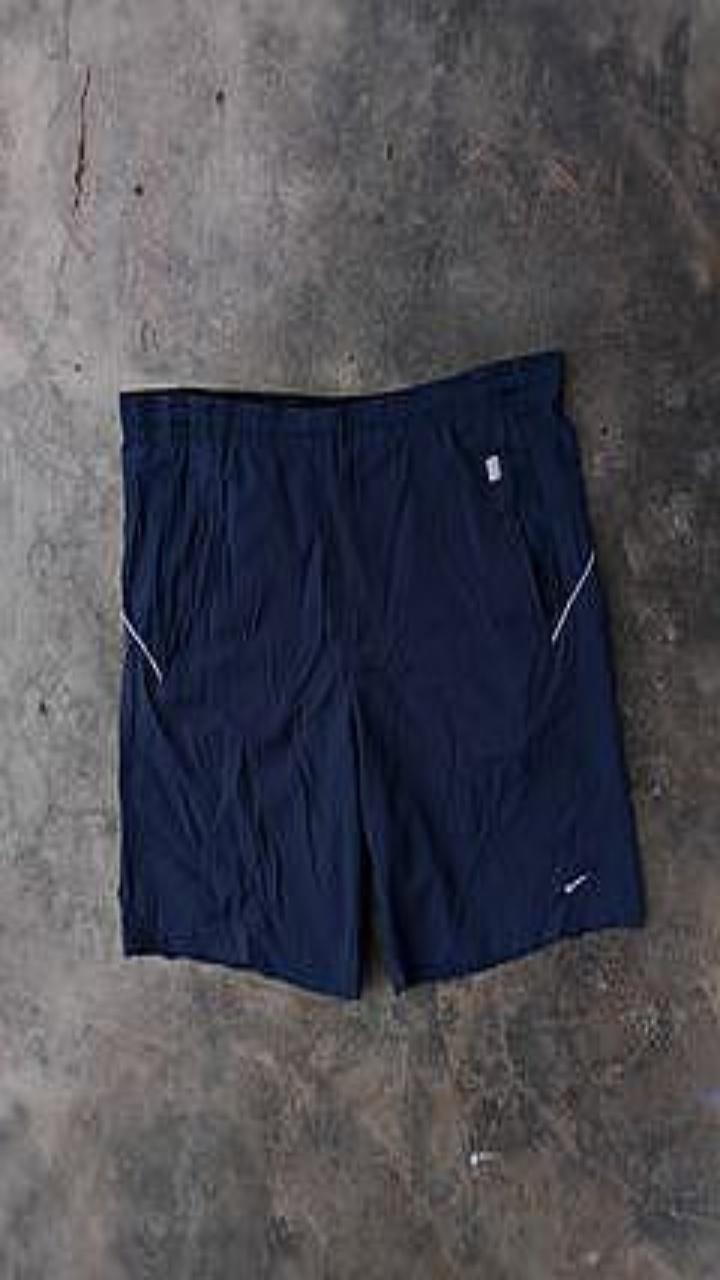Shorts: (117, 351, 643, 997)
